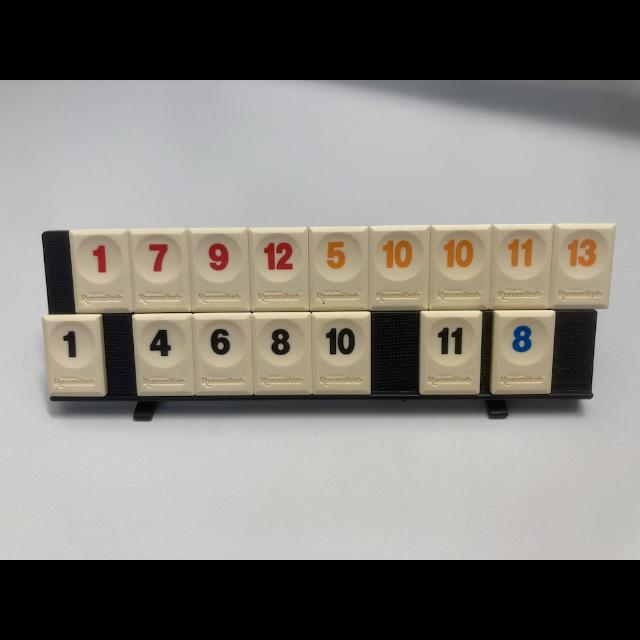black_1: (42, 314, 105, 396)
black_10: (312, 311, 371, 395)
black_11: (420, 310, 482, 395)
black_4: (133, 314, 194, 395)
black_6: (192, 314, 254, 395)
black_8: (252, 314, 312, 395)
blue_8: (490, 310, 555, 395)
orange_10: (429, 225, 491, 309), (369, 226, 430, 310)
orange_11: (490, 225, 552, 309)
orange_13: (550, 224, 616, 309)
orange_5: (310, 227, 368, 310)
red_1: (70, 231, 132, 312)
red_12: (249, 229, 308, 311)
red_7: (129, 230, 191, 311)
red_9: (189, 229, 249, 311)
